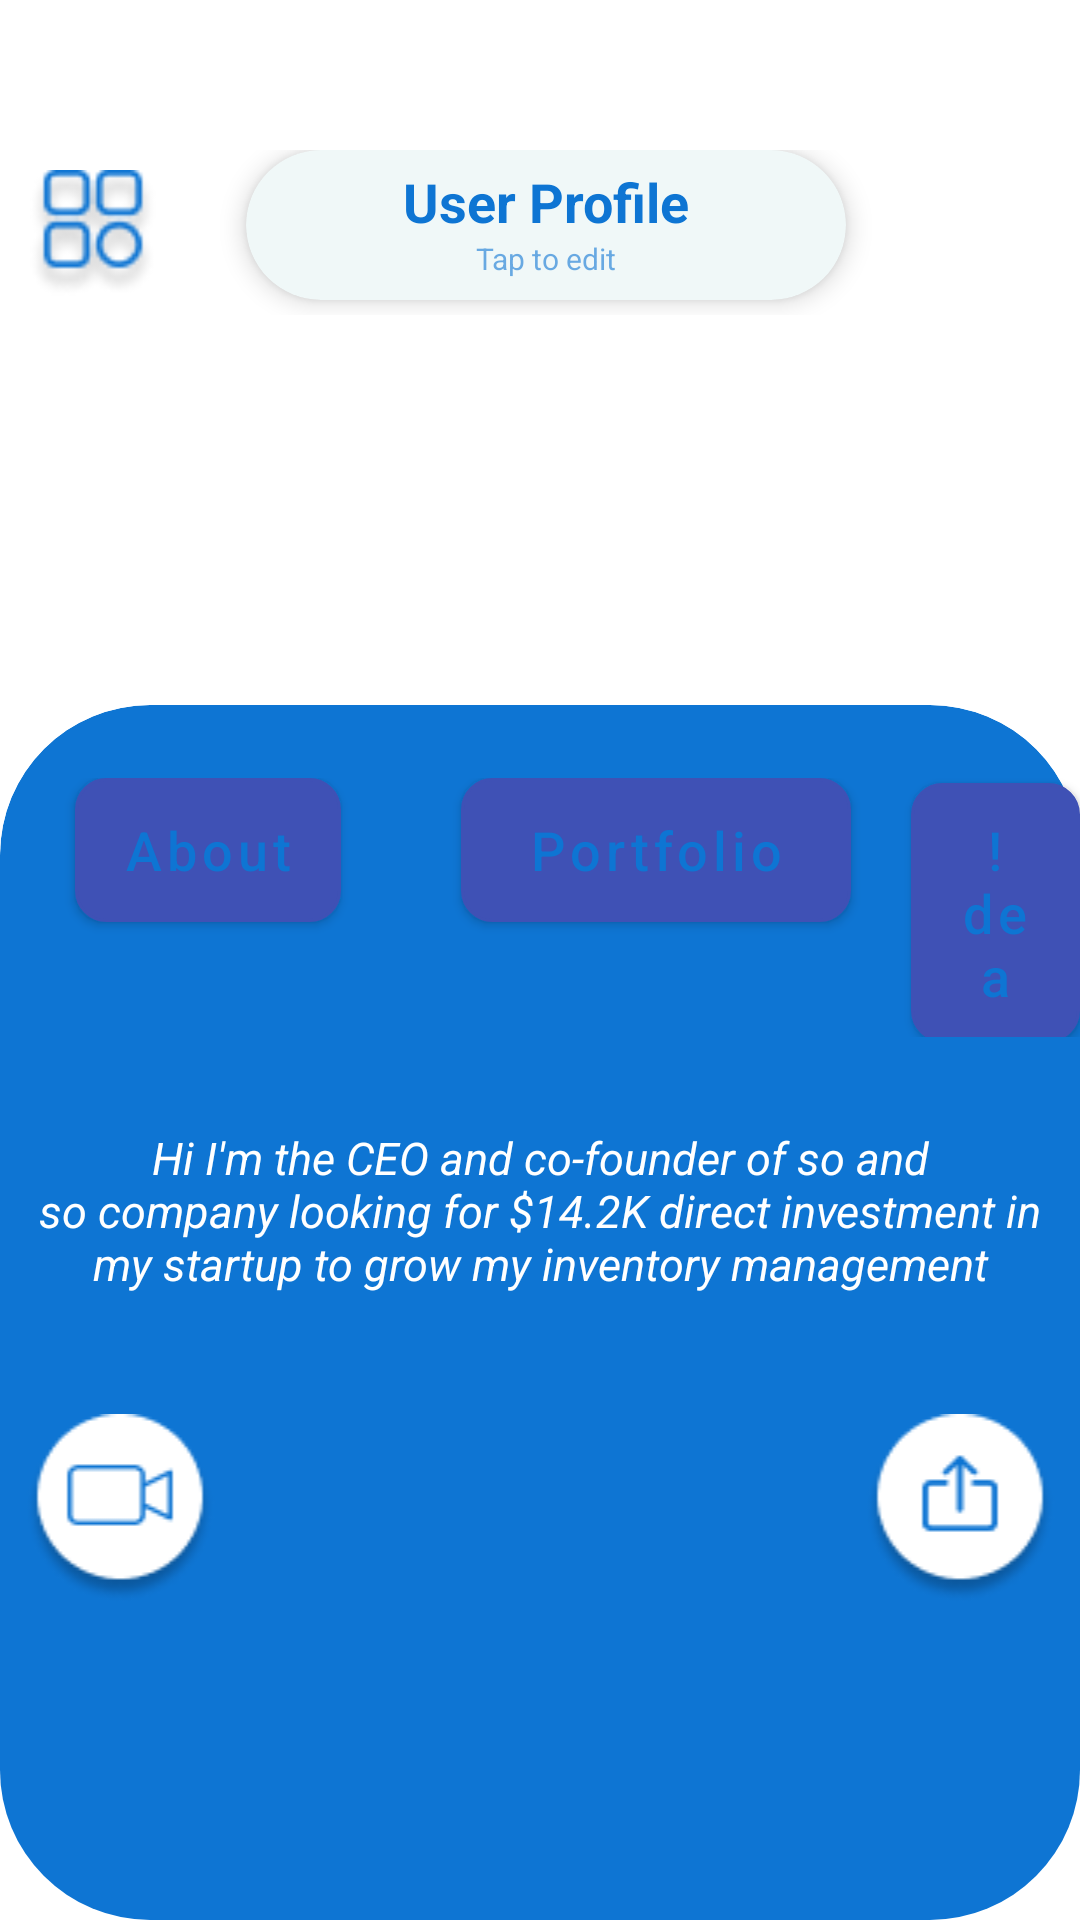

Screen size 1080w x 1920h. Icon name, then its center in pixels as (x=x, y=y):
openmenu: (x=93, y=225)
sender: (x=960, y=1502)
videocall: (x=120, y=1502)
